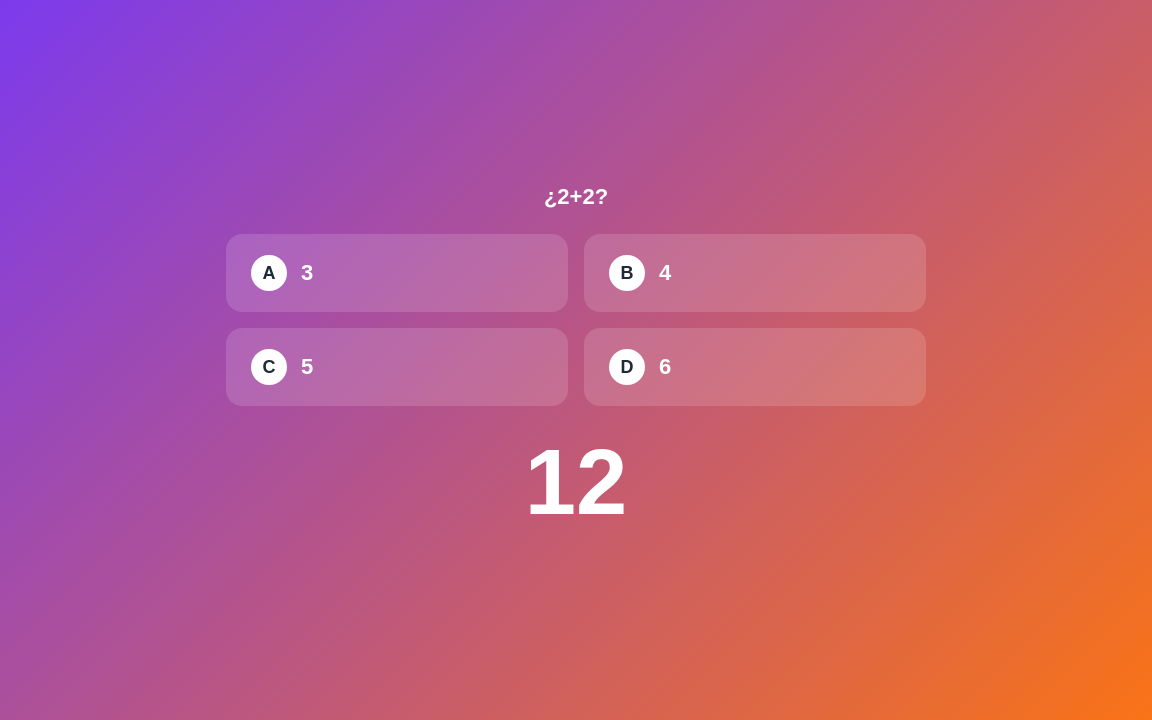
it: PlayTrivia › en my_turn permite tocar una opción y deshabilita las demás
This screenshot has width=1152, height=720.
Click the button "B 4" at (627, 273), box [584, 234, 926, 312]
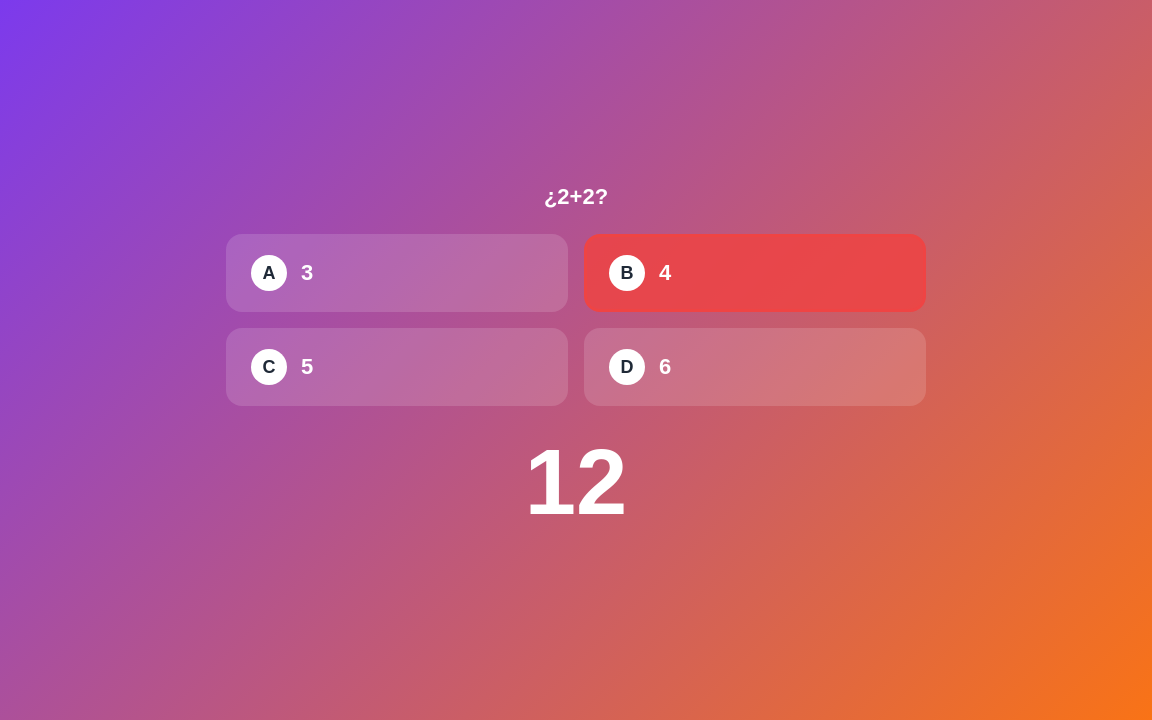
Check: the button "A 3" is disabled, box [226, 234, 568, 312]
Check: the button "B 4" is disabled, box [584, 234, 926, 312]
